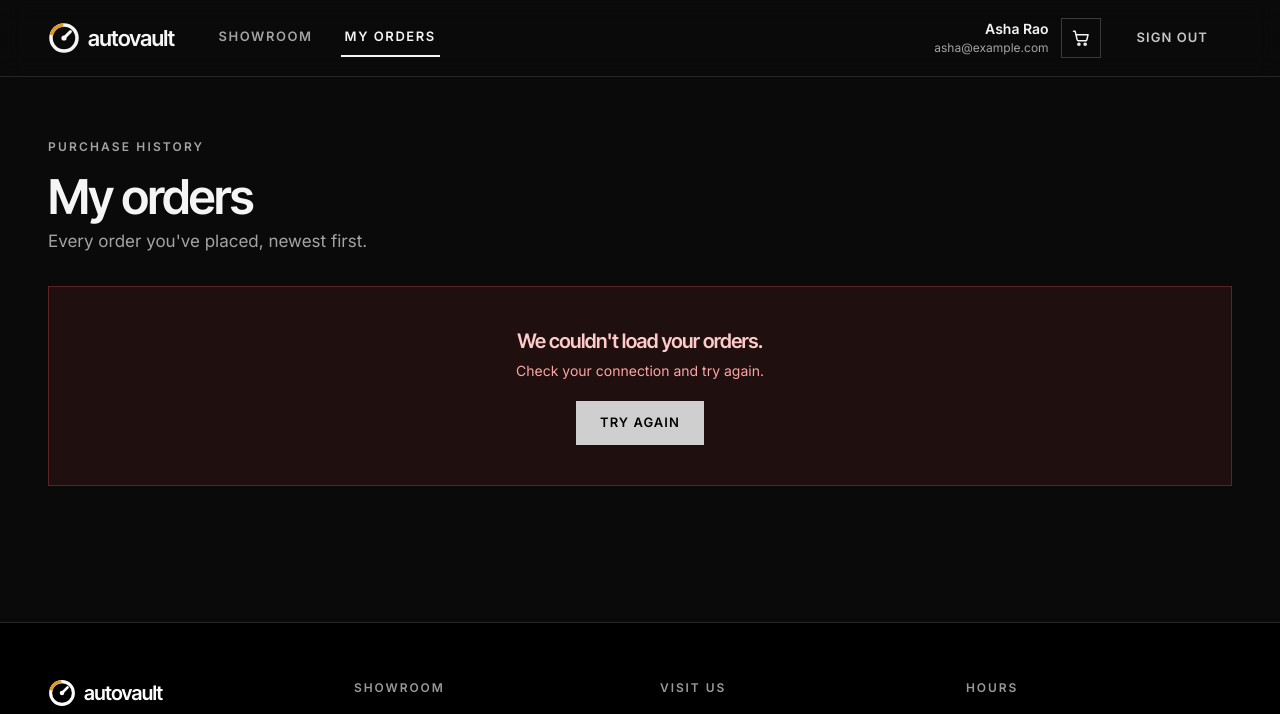
My orders › shows an error with retry when loading fails
The width and height of the screenshot is (1280, 714).
Check: the message shows "couldn't load your orders", box [48,286,1232,486]
Click the button "Try again" at (640, 423), box [576,401,704,444]
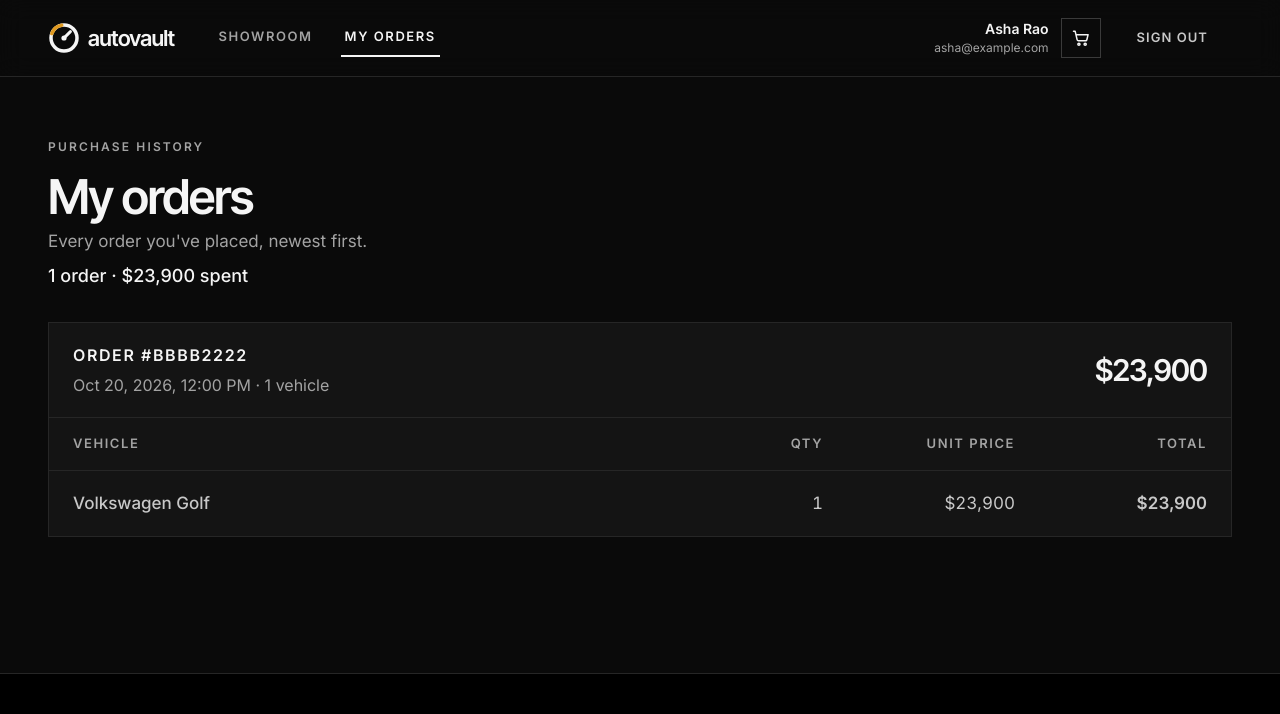
Check: the element "Order #BBBB2222" is shown, box [48,322,1232,537]
